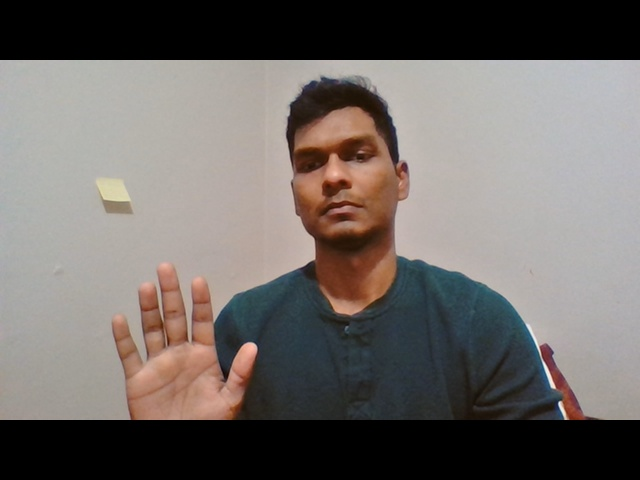Hello: (109, 262, 258, 419)
